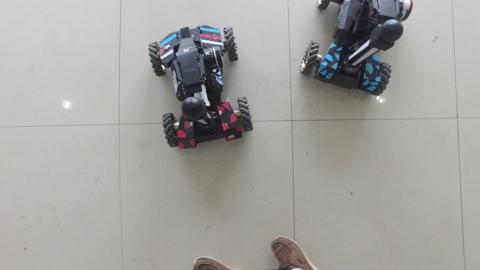chariot: (145, 17, 257, 159), (298, 1, 421, 101)
